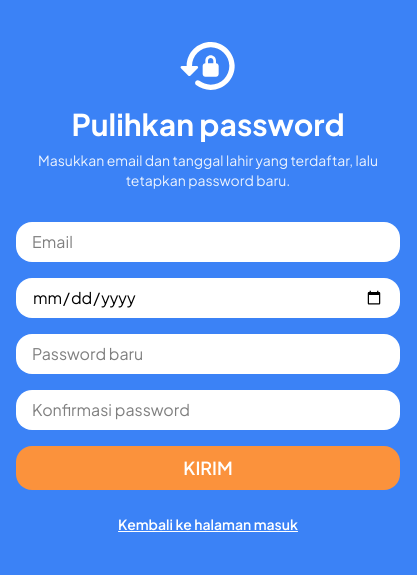
Scenario: halaman lupa password › menampilkan pesan umum saat data pemulihan tidak sesuai
Check: the heading "Pulihkan password" is shown, box x1=71 y1=105 x2=345 y2=143
Type "siswa@school.test" into the field labelled "Email". click: (208, 242)
box: x1=16 y1=222 x2=400 y2=262
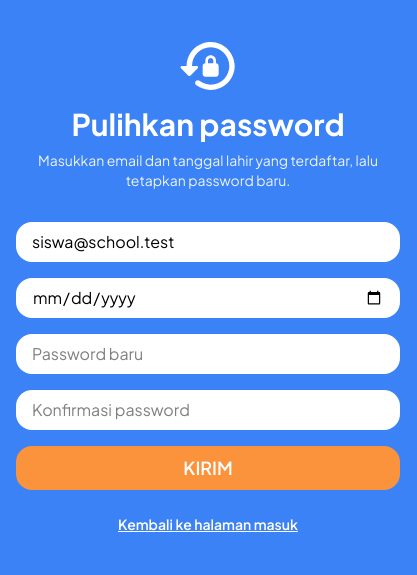
Type "2005-03-14" into the date field named "Tanggal lahir". click: (208, 298)
box: x1=16 y1=278 x2=400 y2=318
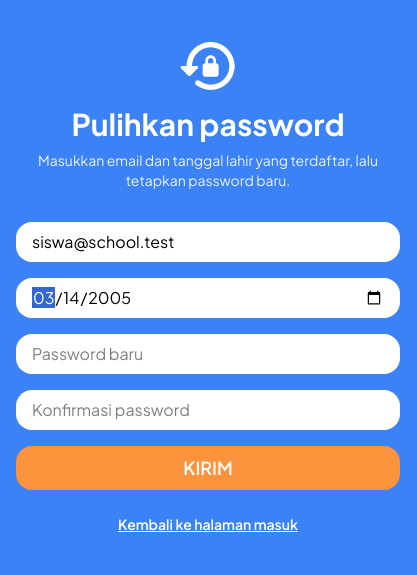
Type "password-123" into the password field labelled "Password baru". click: (208, 354)
box: x1=16 y1=334 x2=400 y2=374
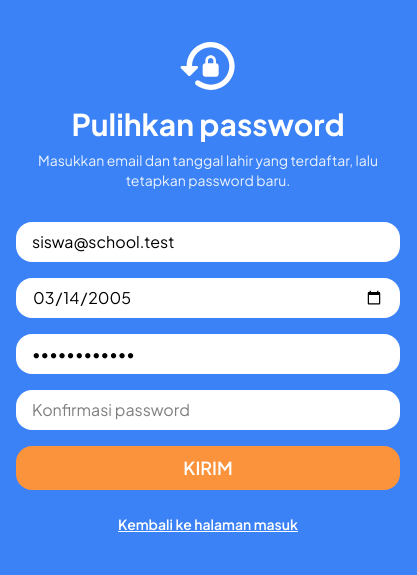
Type "password-123" into the password field labelled "Konfirmasi password". click: (208, 410)
box: x1=16 y1=390 x2=400 y2=430
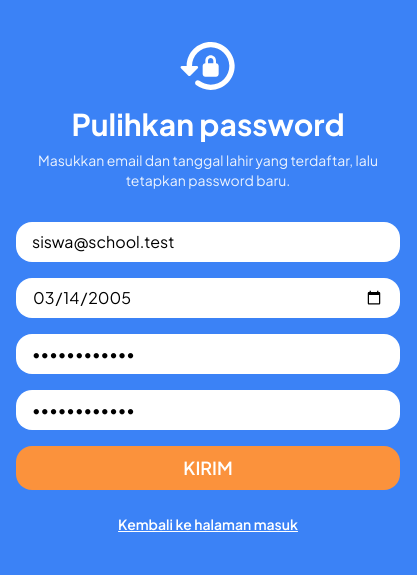
Click the button "Kirim". click: (208, 468)
box: x1=16 y1=446 x2=400 y2=490
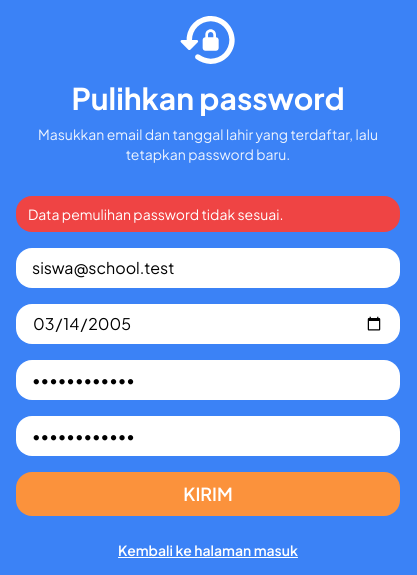
Check: the text "Data pemulihan password tidak sesuai." is shown, box x1=16 y1=196 x2=400 y2=232
